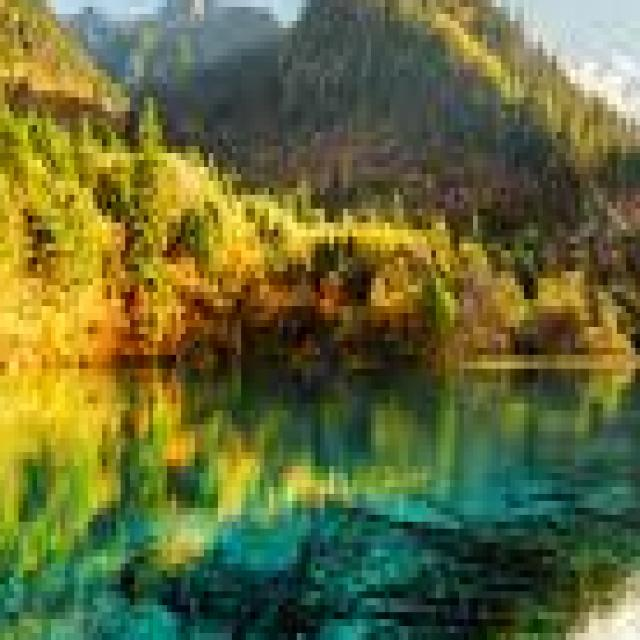-: (0, 424, 640, 640)
